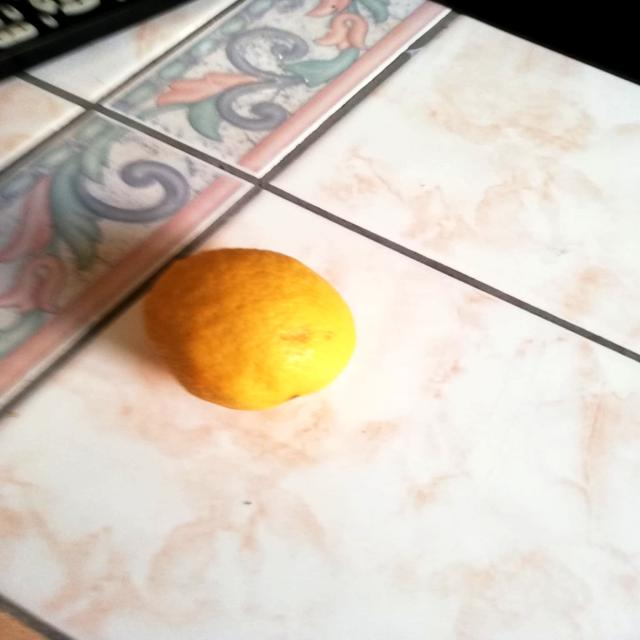lemon: (136, 238, 363, 412)
